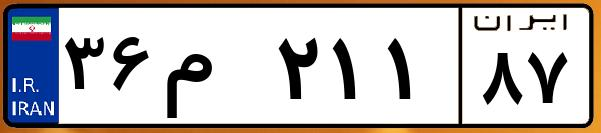1: (385, 28, 445, 110), (330, 28, 385, 110)
2: (270, 28, 330, 110)
3: (57, 26, 110, 100)
6: (110, 28, 158, 98)
7: (525, 38, 570, 115)
8: (475, 38, 525, 113)
م: (158, 20, 270, 120)
